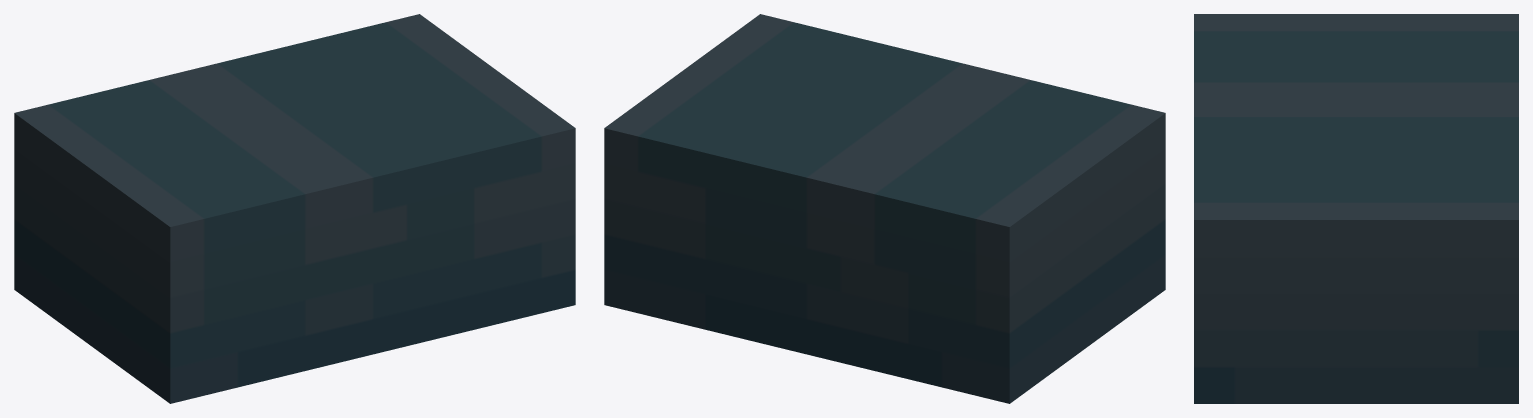
3 views of the same model, side by side, from view 1: azimuth 30°, elevation 25°; view 2: azimuth 150°, elevation 25°; view 3: azimuth 270°, elevation 25° (orthographic). The views are drawn at different scales.
Visible parts, largest first — view 1: Root050; view 2: Root050; view 3: Root050.
Boxes of the visible parts, bbox=[...] form: Root050: bbox=[14, 14, 575, 403]; Root050: bbox=[604, 14, 1165, 403]; Root050: bbox=[1194, 14, 1518, 403].
Bounding box in the file's own units: 12 × 5 × 8.
